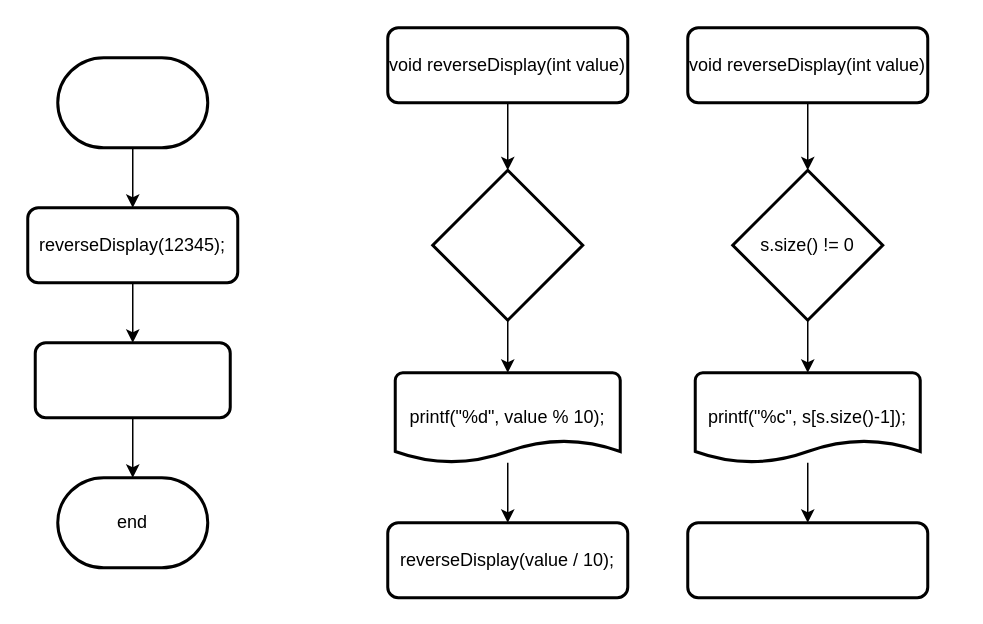
Image size: 983x624. Some labels were removed from this diagram. The shapes that lost their labels are listed below. From the top down, each one's centre as x and y in pixels, then its label:
(x=132, y=102): start
(x=507, y=244): value != 0
(x=132, y=379): reverseDisplay("abcd");
(x=807, y=559): reverseDisplay(s.substr(0,s.size()-1));
